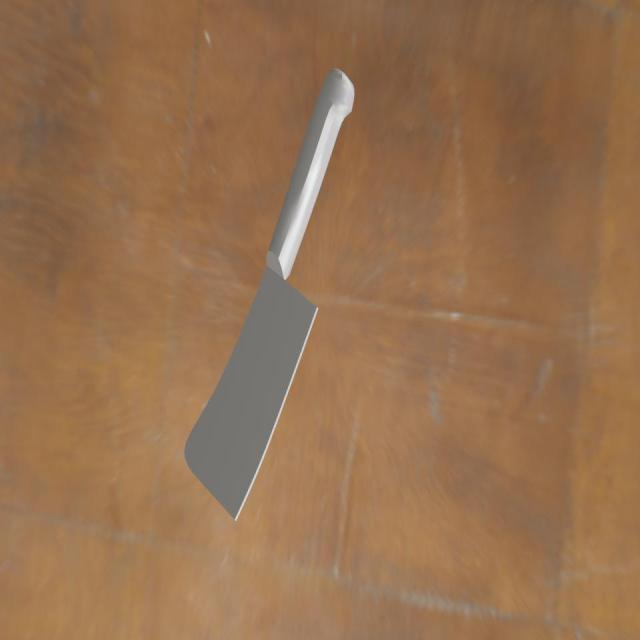knife: (264, 58, 356, 279)
